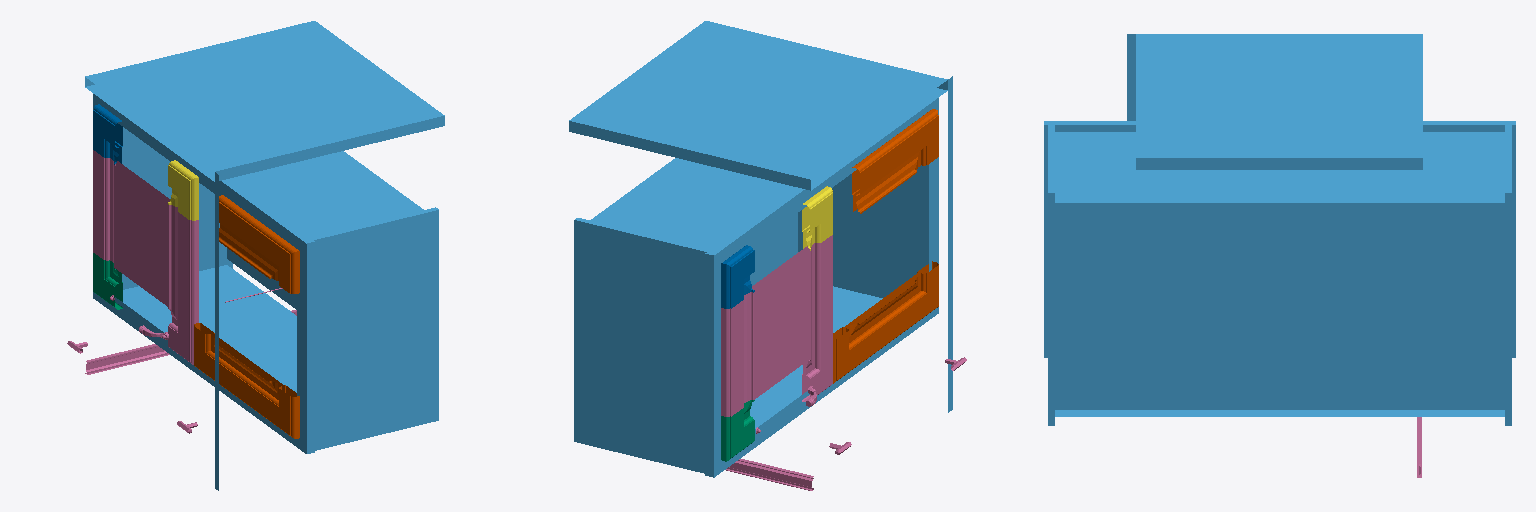
The robot description file, URDF, robot "partnet_c75ebd7c340649ba5ad304c2564ae1df":
<?xml version="1.0" ?>
<robot name="partnet_c75ebd7c340649ba5ad304c2564ae1df">
	
	
	
	
	<link name="base">
		
		
		<inertial>
			
			
			<origin rpy="0 0 0" xyz="0 0 0"/>
			
			
			<mass value="0.0"/>
			
			
			<inertia ixx="0.9" ixy="0.9" ixz="0.9" iyy="0.9" iyz="0.9" izz="0.9"/>
			
		
		</inertial>
		
	
	</link>
	
	
	
	
	<link name="0">
		
		
		
		
		<visual name="door_frame-9">
			
			
			
			
			<origin rpy="0.0 0.0 0.0" xyz="-0.4594064542801477 0.6994047812620767 -0.3716736367086352"/>
			
			
			
			
			<geometry>
				
				
				
				
				<mesh filename="package://textured_objs/original-2.obj"/>
				
				
			
			
			</geometry>
			
			
		
		
		</visual>
		
		
		
		
		<visual name="glass-10">
			
			
			
			
			<origin rpy="0.0 0.0 0.0" xyz="-0.4594064542801477 0.6994047812620767 -0.3716736367086352"/>
			
			
			
			
			<geometry>
				
				
				
				
				<mesh filename="package://textured_objs/original-6.obj"/>
				
				
			
			
			</geometry>
			
			
		
		
		</visual>
		
		
		
		
		<visual name="glass-10">
			
			
			
			
			<origin rpy="0.0 0.0 0.0" xyz="-0.4594064542801477 0.6994047812620767 -0.3716736367086352"/>
			
			
			
			
			<geometry>
				
				
				
				
				<mesh filename="package://textured_objs/original-9.obj"/>
				
				
			
			
			</geometry>
			
			
		
		
		</visual>
		
		
		
		
		<visual name="glass-10">
			
			
			
			
			<origin rpy="0.0 0.0 0.0" xyz="-0.4594064542801477 0.6994047812620767 -0.3716736367086352"/>
			
			
			
			
			<geometry>
				
				
				
				
				<mesh filename="package://textured_objs/original-8.obj"/>
				
				
			
			
			</geometry>
			
			
		
		
		</visual>
		
		
		
		
		<visual name="glass-10">
			
			
			
			
			<origin rpy="0.0 0.0 0.0" xyz="-0.4594064542801477 0.6994047812620767 -0.3716736367086352"/>
			
			
			
			
			<geometry>
				
				
				
				
				<mesh filename="package://textured_objs/original-15.obj"/>
				
				
			
			
			</geometry>
			
			
		
		
		</visual>
		
		
		
		
		<visual name="glass-10">
			
			
			
			
			<origin rpy="0.0 0.0 0.0" xyz="-0.4594064542801477 0.6994047812620767 -0.3716736367086352"/>
			
			
			
			
			<geometry>
				
				
				
				
				<mesh filename="package://textured_objs/original-10.obj"/>
				
				
			
			
			</geometry>
			
			
		
		
		</visual>
		
		
		
		
		<visual name="glass-10">
			
			
			
			
			<origin rpy="0.0 0.0 0.0" xyz="-0.4594064542801477 0.6994047812620767 -0.3716736367086352"/>
			
			
			
			
			<geometry>
				
				
				
				
				<mesh filename="package://textured_objs/original-12.obj"/>
				
				
			
			
			</geometry>
			
			
		
		
		</visual>
		
		
		
		
		<visual name="glass-10">
			
			
			
			
			<origin rpy="0.0 0.0 0.0" xyz="-0.4594064542801477 0.6994047812620767 -0.3716736367086352"/>
			
			
			
			
			<geometry>
				
				
				
				
				<mesh filename="package://textured_objs/original-14.obj"/>
				
				
			
			
			</geometry>
			
			
		
		
		</visual>
		
		
		
		
		<visual name="glass-10">
			
			
			
			
			<origin rpy="0.0 0.0 0.0" xyz="-0.4594064542801477 0.6994047812620767 -0.3716736367086352"/>
			
			
			
			
			<geometry>
				
				
				
				
				<mesh filename="package://textured_objs/original-11.obj"/>
				
				
			
			
			</geometry>
			
			
		
		
		</visual>
		
		
		
		
		<visual name="glass-10">
			
			
			
			
			<origin rpy="0.0 0.0 0.0" xyz="-0.4594064542801477 0.6994047812620767 -0.3716736367086352"/>
			
			
			
			
			<geometry>
				
				
				
				
				<mesh filename="package://textured_objs/original-13.obj"/>
				
				
			
			
			</geometry>
			
			
		
		
		</visual>
		
		
		
		
		<visual name="glass-10">
			
			
			
			
			<origin rpy="0.0 0.0 0.0" xyz="-0.4594064542801477 0.6994047812620767 -0.3716736367086352"/>
			
			
			
			
			<geometry>
				
				
				
				
				<mesh filename="package://textured_objs/original-5.obj"/>
				
				
			
			
			</geometry>
			
			
		
		
		</visual>
		
		
		
		
		<visual name="glass-10">
			
			
			
			
			<origin rpy="0.0 0.0 0.0" xyz="-0.4594064542801477 0.6994047812620767 -0.3716736367086352"/>
			
			
			
			
			<geometry>
				
				
				
				
				<mesh filename="package://textured_objs/original-16.obj"/>
				
				
			
			
			</geometry>
			
			
		
		
		</visual>
		
		
		
		
		<collision>
			
			
			
			
			<origin rpy="0.0 0.0 0.0" xyz="-0.4594064542801477 0.6994047812620767 -0.3716736367086352"/>
			
			
			
			
			<geometry>
				
				
				
				
				<mesh filename="package://textured_objs/original-2.obj"/>
				
				
			
			
			</geometry>
			
			
		
		
		</collision>
		
		
		
		
		<collision>
			
			
			
			
			<origin rpy="0.0 0.0 0.0" xyz="-0.4594064542801477 0.6994047812620767 -0.3716736367086352"/>
			
			
			
			
			<geometry>
				
				
				
				
				<mesh filename="package://textured_objs/original-6.obj"/>
				
				
			
			
			</geometry>
			
			
		
		
		</collision>
		
		
		
		
		<collision>
			
			
			
			
			<origin rpy="0.0 0.0 0.0" xyz="-0.4594064542801477 0.6994047812620767 -0.3716736367086352"/>
			
			
			
			
			<geometry>
				
				
				
				
				<mesh filename="package://textured_objs/original-9.obj"/>
				
				
			
			
			</geometry>
			
			
		
		
		</collision>
		
		
		
		
		<collision>
			
			
			
			
			<origin rpy="0.0 0.0 0.0" xyz="-0.4594064542801477 0.6994047812620767 -0.3716736367086352"/>
			
			
			
			
			<geometry>
				
				
				
				
				<mesh filename="package://textured_objs/original-8.obj"/>
				
				
			
			
			</geometry>
			
			
		
		
		</collision>
		
		
		
		
		<collision>
			
			
			
			
			<origin rpy="0.0 0.0 0.0" xyz="-0.4594064542801477 0.6994047812620767 -0.3716736367086352"/>
			
			
			
			
			<geometry>
				
				
				
				
				<mesh filename="package://textured_objs/original-15.obj"/>
				
				
			
			
			</geometry>
			
			
		
		
		</collision>
		
		
		
		
		<collision>
			
			
			
			
			<origin rpy="0.0 0.0 0.0" xyz="-0.4594064542801477 0.6994047812620767 -0.3716736367086352"/>
			
			
			
			
			<geometry>
				
				
				
				
				<mesh filename="package://textured_objs/original-10.obj"/>
				
				
			
			
			</geometry>
			
			
		
		
		</collision>
		
		
		
		
		<collision>
			
			
			
			
			<origin rpy="0.0 0.0 0.0" xyz="-0.4594064542801477 0.6994047812620767 -0.3716736367086352"/>
			
			
			
			
			<geometry>
				
				
				
				
				<mesh filename="package://textured_objs/original-12.obj"/>
				
				
			
			
			</geometry>
			
			
		
		
		</collision>
		
		
		
		
		<collision>
			
			
			
			
			<origin rpy="0.0 0.0 0.0" xyz="-0.4594064542801477 0.6994047812620767 -0.3716736367086352"/>
			
			
			
			
			<geometry>
				
				
				
				
				<mesh filename="package://textured_objs/original-14.obj"/>
				
				
			
			
			</geometry>
			
			
		
		
		</collision>
		
		
		
		
		<collision>
			
			
			
			
			<origin rpy="0.0 0.0 0.0" xyz="-0.4594064542801477 0.6994047812620767 -0.3716736367086352"/>
			
			
			
			
			<geometry>
				
				
				
				
				<mesh filename="package://textured_objs/original-11.obj"/>
				
				
			
			
			</geometry>
			
			
		
		
		</collision>
		
		
		
		
		<collision>
			
			
			
			
			<origin rpy="0.0 0.0 0.0" xyz="-0.4594064542801477 0.6994047812620767 -0.3716736367086352"/>
			
			
			
			
			<geometry>
				
				
				
				
				<mesh filename="package://textured_objs/original-13.obj"/>
				
				
			
			
			</geometry>
			
			
		
		
		</collision>
		
		
		
		
		<collision>
			
			
			
			
			<origin rpy="0.0 0.0 0.0" xyz="-0.4594064542801477 0.6994047812620767 -0.3716736367086352"/>
			
			
			
			
			<geometry>
				
				
				
				
				<mesh filename="package://textured_objs/original-5.obj"/>
				
				
			
			
			</geometry>
			
			
		
		
		</collision>
		
		
		
		
		<collision>
			
			
			
			
			<origin rpy="0.0 0.0 0.0" xyz="-0.4594064542801477 0.6994047812620767 -0.3716736367086352"/>
			
			
			
			
			<geometry>
				
				
				
				
				<mesh filename="package://textured_objs/original-16.obj"/>
				
				
			
			
			</geometry>
			
			
		
		
		</collision>
		
		
	
		
		<inertial>
			
			
			<origin rpy="0 0 0" xyz="0 0 0"/>
			
			
			<mass value="3.0"/>
			
			
			<inertia ixx="0.9" ixy="0.9" ixz="0.9" iyy="0.9" iyz="0.9" izz="0.9"/>
			
		
		</inertial>
		
	
	</link>
	
	
	
	
	<joint name="joint_0" type="revolute">
		
		
		
		
		<origin rpy="0.0 0.0 0.0" xyz="0.4594065 -0.6994048 0.3716736"/>
		
		
		
		
		<axis xyz="0 -0.0 -1.0"/>
		
		
		
		
		<child link="0"/>
		
		
		
		
		<parent link="5"/>
		
		
		
		
		<limit effort="30" lower="-1.570796" upper="0.0" velocity="1.0"/>
		
		
	
	
	</joint>
	
	
	
	
	<link name="1">
		
		
		
		
		<visual name="door_button-5">
			
			
			
			
			<origin rpy="0.0 0.0 0.0" xyz="0 0 0"/>
			
			
			
			
			<geometry>
				
				
				
				
				<mesh filename="package://textured_objs/original-22.obj"/>
				
				
			
			
			</geometry>
			
			
		
		
		</visual>
		
		
		
		
		<collision>
			
			
			
			
			<origin rpy="0.0 0.0 0.0" xyz="0 0 0"/>
			
			
			
			
			<geometry>
				
				
				
				
				<mesh filename="package://textured_objs/original-22.obj"/>
				
				
			
			
			</geometry>
			
			
		
		
		</collision>
		
		
	
		
		<inertial>
			
			
			<origin rpy="0 0 0" xyz="0 0 0"/>
			
			
			<mass value="3.0"/>
			
			
			<inertia ixx="0.9" ixy="0.9" ixz="0.9" iyy="0.9" iyz="0.9" izz="0.9"/>
			
		
		</inertial>
		
	
	</link>
	
	
	
	
	<joint name="joint_1" type="fixed">
		
		
		
		
		<origin rpy="0.0 0.0 0.0" xyz="0 0 0"/>
		
		
		
		
		<axis xyz="-1 -0.0 0.0"/>
		
		
		
		
		<child link="1"/>
		
		
		
		
		<parent link="5"/>
		
		
		
		
		<limit effort="30" lower="0.0040000000000000036" upper="0.01200000000000001" velocity="1.0"/>
		
		
	
	
	</joint>
	
	
	
	
	<link name="2">
		
		
		
		
		<visual name="control_button-6">
			
			
			
			
			<origin rpy="0.0 0.0 0.0" xyz="0 -0.595905953683902 0.10762880873845218"/>
			
			
			
			
			<geometry>
				
				
				
				
				<mesh filename="package://textured_objs/original-21.obj"/>
				
				
			
			
			</geometry>
			
			
		
		
		</visual>
		
		
		
		
		<collision>
			
			
			
			
			<origin rpy="0.0 0.0 0.0" xyz="0 -0.595905953683902 0.10762880873845218"/>
			
			
			
			
			<geometry>
				
				
				
				
				<mesh filename="package://textured_objs/original-21.obj"/>
				
				
			
			
			</geometry>
			
			
		
		
		</collision>
		
		
	
		
		<inertial>
			
			
			<origin rpy="0 0 0" xyz="0 0 0"/>
			
			
			<mass value="3.0"/>
			
			
			<inertia ixx="0.9" ixy="0.9" ixz="0.9" iyy="0.9" iyz="0.9" izz="0.9"/>
			
		
		</inertial>
		
	
	</link>
	
	
	
	
	<joint name="joint_2" type="fixed">
		
		
		
		
		<origin rpy="0.0 0.0 0.0" xyz="0 0.595905953683902 -0.10762880873845218"/>
		
		
		
		
		<axis xyz="1 -0.0 0.0"/>
		
		
		
		
		<child link="2"/>
		
		
		
		
		<parent link="5"/>
		
		
	
	
	</joint>
	
	
	
	
	<link name="3">
		
		
		
		
		<visual name="control_button-7">
			
			
			
			
			<origin rpy="0.0 0.0 0.0" xyz="0 -0.5959056708108185 -0.10520150832160682"/>
			
			
			
			
			<geometry>
				
				
				
				
				<mesh filename="package://textured_objs/original-20.obj"/>
				
				
			
			
			</geometry>
			
			
		
		
		</visual>
		
		
		
		
		<collision>
			
			
			
			
			<origin rpy="0.0 0.0 0.0" xyz="0 -0.5959056708108185 -0.10520150832160682"/>
			
			
			
			
			<geometry>
				
				
				
				
				<mesh filename="package://textured_objs/original-20.obj"/>
				
				
			
			
			</geometry>
			
			
		
		
		</collision>
		
		
	
		
		<inertial>
			
			
			<origin rpy="0 0 0" xyz="0 0 0"/>
			
			
			<mass value="3.0"/>
			
			
			<inertia ixx="0.9" ixy="0.9" ixz="0.9" iyy="0.9" iyz="0.9" izz="0.9"/>
			
		
		</inertial>
		
	
	</link>
	
	
	
	
	<joint name="joint_3" type="fixed">
		
		
		
		
		<origin rpy="0.0 0.0 0.0" xyz="0 0.5959056708108185 0.10520150832160682"/>
		
		
		
		
		<axis xyz="1 -0.0 0.0"/>
		
		
		
		
		<child link="3"/>
		
		
		
		
		<parent link="5"/>
		
		
	
	
	</joint>
	
	
	
	
	<link name="4">
		
		
		
		
		<visual name="tray-12">
			
			
			
			
			<origin rpy="0.0 0.0 0.0" xyz="0.02379955083131792 0.149241880774498 0"/>
			
			
			
			
			<geometry>
				
				
				
				
				<mesh filename="package://textured_objs/original-44.obj"/>
				
				
			
			
			</geometry>
			
			
		
		
		</visual>
		
		
		
		
		<visual name="tray_support-13">
			
			
			
			
			<origin rpy="0.0 0.0 0.0" xyz="0.02379955083131792 0.149241880774498 0"/>
			
			
			
			
			<geometry>
				
				
				
				
				<mesh filename="package://textured_objs/original-43.obj"/>
				
				
			
			
			</geometry>
			
			
		
		
		</visual>
		
		
		
		
		<visual name="tray_support-13">
			
			
			
			
			<origin rpy="0.0 0.0 0.0" xyz="0.02379955083131792 0.149241880774498 0"/>
			
			
			
			
			<geometry>
				
				
				
				
				<mesh filename="package://textured_objs/original-45.obj"/>
				
				
			
			
			</geometry>
			
			
		
		
		</visual>
		
		
		
		
		<visual name="tray_support-13">
			
			
			
			
			<origin rpy="0.0 0.0 0.0" xyz="0.02379955083131792 0.149241880774498 0"/>
			
			
			
			
			<geometry>
				
				
				
				
				<mesh filename="package://textured_objs/original-41.obj"/>
				
				
			
			
			</geometry>
			
			
		
		
		</visual>
		
		
		
		
		<visual name="tray_support-13">
			
			
			
			
			<origin rpy="0.0 0.0 0.0" xyz="0.02379955083131792 0.149241880774498 0"/>
			
			
			
			
			<geometry>
				
				
				
				
				<mesh filename="package://textured_objs/original-42.obj"/>
				
				
			
			
			</geometry>
			
			
		
		
		</visual>
		
		
		
		
		<collision>
			
			
			
			
			<origin rpy="0.0 0.0 0.0" xyz="0.02379955083131792 0.149241880774498 0"/>
			
			
			
			
			<geometry>
				
				
				
				
				<mesh filename="package://textured_objs/original-44.obj"/>
				
				
			
			
			</geometry>
			
			
		
		
		</collision>
		
		
		
		
		<collision>
			
			
			
			
			<origin rpy="0.0 0.0 0.0" xyz="0.02379955083131792 0.149241880774498 0"/>
			
			
			
			
			<geometry>
				
				
				
				
				<mesh filename="package://textured_objs/original-43.obj"/>
				
				
			
			
			</geometry>
			
			
		
		
		</collision>
		
		
		
		
		<collision>
			
			
			
			
			<origin rpy="0.0 0.0 0.0" xyz="0.02379955083131792 0.149241880774498 0"/>
			
			
			
			
			<geometry>
				
				
				
				
				<mesh filename="package://textured_objs/original-45.obj"/>
				
				
			
			
			</geometry>
			
			
		
		
		</collision>
		
		
		
		
		<collision>
			
			
			
			
			<origin rpy="0.0 0.0 0.0" xyz="0.02379955083131792 0.149241880774498 0"/>
			
			
			
			
			<geometry>
				
				
				
				
				<mesh filename="package://textured_objs/original-41.obj"/>
				
				
			
			
			</geometry>
			
			
		
		
		</collision>
		
		
		
		
		<collision>
			
			
			
			
			<origin rpy="0.0 0.0 0.0" xyz="0.02379955083131792 0.149241880774498 0"/>
			
			
			
			
			<geometry>
				
				
				
				
				<mesh filename="package://textured_objs/original-42.obj"/>
				
				
			
			
			</geometry>
			
			
		
		
		</collision>
		
		
	
		
		<inertial>
			
			
			<origin rpy="0 0 0" xyz="0 0 0"/>
			
			
			<mass value="3.0"/>
			
			
			<inertia ixx="0.9" ixy="0.9" ixz="0.9" iyy="0.9" iyz="0.9" izz="0.9"/>
			
		
		</inertial>
		
	
	</link>
	
	
	
	
	<joint name="joint_4" type="fixed">
		
		
		
		
		<origin rpy="0.0 0.0 0.0" xyz="-0.02379955083131792 -0.149241880774498 0"/>
		
		
		
		
		<axis xyz="0 -0.0 1.0"/>
		
		
		
		
		<child link="4"/>
		
		
		
		
		<parent link="5"/>
		
		
	
	
	</joint>
	
	
	
	
	<link name="5">
		
		
		
		
		<visual name="frame-2">
			
			
			
			
			<origin rpy="0.0 0.0 0.0" xyz="0 0 0"/>
			
			
			
			
			<geometry>
				
				
				
				
				<mesh filename="package://textured_objs/original-36.obj"/>
				
				
			
			
			</geometry>
			
			
		
		
		</visual>
		
		
		
		
		<visual name="display_panel-8">
			
			
			
			
			<origin rpy="0.0 0.0 0.0" xyz="0 0 0"/>
			
			
			
			
			<geometry>
				
				
				
				
				<mesh filename="package://textured_objs/original-26.obj"/>
				
				
			
			
			</geometry>
			
			
		
		
		</visual>
		
		
		
		
		<visual name="display_panel-8">
			
			
			
			
			<origin rpy="0.0 0.0 0.0" xyz="0 0 0"/>
			
			
			
			
			<geometry>
				
				
				
				
				<mesh filename="package://textured_objs/original-27.obj"/>
				
				
			
			
			</geometry>
			
			
		
		
		</visual>
		
		
		
		
		<visual name="display_panel-8">
			
			
			
			
			<origin rpy="0.0 0.0 0.0" xyz="0 0 0"/>
			
			
			
			
			<geometry>
				
				
				
				
				<mesh filename="package://textured_objs/original-28.obj"/>
				
				
			
			
			</geometry>
			
			
		
		
		</visual>
		
		
		
		
		<visual name="display_panel-8">
			
			
			
			
			<origin rpy="0.0 0.0 0.0" xyz="0 0 0"/>
			
			
			
			
			<geometry>
				
				
				
				
				<mesh filename="package://textured_objs/original-29.obj"/>
				
				
			
			
			</geometry>
			
			
		
		
		</visual>
		
		
		
		
		<visual name="display_panel-8">
			
			
			
			
			<origin rpy="0.0 0.0 0.0" xyz="0 0 0"/>
			
			
			
			
			<geometry>
				
				
				
				
				<mesh filename="package://textured_objs/original-30.obj"/>
				
				
			
			
			</geometry>
			
			
		
		
		</visual>
		
		
		
		
		<visual name="display_panel-8">
			
			
			
			
			<origin rpy="0.0 0.0 0.0" xyz="0 0 0"/>
			
			
			
			
			<geometry>
				
				
				
				
				<mesh filename="package://textured_objs/original-31.obj"/>
				
				
			
			
			</geometry>
			
			
		
		
		</visual>
		
		
		
		
		<visual name="display_panel-8">
			
			
			
			
			<origin rpy="0.0 0.0 0.0" xyz="0 0 0"/>
			
			
			
			
			<geometry>
				
				
				
				
				<mesh filename="package://textured_objs/original-34.obj"/>
				
				
			
			
			</geometry>
			
			
		
		
		</visual>
		
		
		
		
		<visual name="display_panel-8">
			
			
			
			
			<origin rpy="0.0 0.0 0.0" xyz="0 0 0"/>
			
			
			
			
			<geometry>
				
				
				
				
				<mesh filename="package://textured_objs/original-33.obj"/>
				
				
			
			
			</geometry>
			
			
		
		
		</visual>
		
		
		
		
		<visual name="display_panel-8">
			
			
			
			
			<origin rpy="0.0 0.0 0.0" xyz="0 0 0"/>
			
			
			
			
			<geometry>
				
				
				
				
				<mesh filename="package://textured_objs/original-32.obj"/>
				
				
			
			
			</geometry>
			
			
		
		
		</visual>
		
		
		
		
		<visual name="display_panel-8">
			
			
			
			
			<origin rpy="0.0 0.0 0.0" xyz="0 0 0"/>
			
			
			
			
			<geometry>
				
				
				
				
				<mesh filename="package://textured_objs/original-35.obj"/>
				
				
			
			
			</geometry>
			
			
		
		
		</visual>
		
		
		
		
		<visual name="display_panel-8">
			
			
			
			
			<origin rpy="0.0 0.0 0.0" xyz="0 0 0"/>
			
			
			
			
			<geometry>
				
				
				
				
				<mesh filename="package://textured_objs/original-23.obj"/>
				
				
			
			
			</geometry>
			
			
		
		
		</visual>
		
		
		
		
		<collision>
			
			
			
			
			<origin rpy="0.0 0.0 0.0" xyz="0 0 0"/>
			
			
			
			
			<geometry>
				
				
				
				
				<mesh filename="package://textured_objs/original-36.obj"/>
				
				
			
			
			</geometry>
			
			
		
		
		</collision>
		
		
		
		
		<collision>
			
			
			
			
			<origin rpy="0.0 0.0 0.0" xyz="0 0 0"/>
			
			
			
			
			<geometry>
				
				
				
				
				<mesh filename="package://textured_objs/original-26.obj"/>
				
				
			
			
			</geometry>
			
			
		
		
		</collision>
		
		
		
		
		<collision>
			
			
			
			
			<origin rpy="0.0 0.0 0.0" xyz="0 0 0"/>
			
			
			
			
			<geometry>
				
				
				
				
				<mesh filename="package://textured_objs/original-27.obj"/>
				
				
			
			
			</geometry>
			
			
		
		
		</collision>
		
		
		
		
		<collision>
			
			
			
			
			<origin rpy="0.0 0.0 0.0" xyz="0 0 0"/>
			
			
			
			
			<geometry>
				
				
				
				
				<mesh filename="package://textured_objs/original-28.obj"/>
				
				
			
			
			</geometry>
			
			
		
		
		</collision>
		
		
		
		
		<collision>
			
			
			
			
			<origin rpy="0.0 0.0 0.0" xyz="0 0 0"/>
			
			
			
			
			<geometry>
				
				
				
				
				<mesh filename="package://textured_objs/original-29.obj"/>
				
				
			
			
			</geometry>
			
			
		
		
		</collision>
		
		
		
		
		<collision>
			
			
			
			
			<origin rpy="0.0 0.0 0.0" xyz="0 0 0"/>
			
			
			
			
			<geometry>
				
				
				
				
				<mesh filename="package://textured_objs/original-30.obj"/>
				
				
			
			
			</geometry>
			
			
		
		
		</collision>
		
		
		
		
		<collision>
			
			
			
			
			<origin rpy="0.0 0.0 0.0" xyz="0 0 0"/>
			
			
			
			
			<geometry>
				
				
				
				
				<mesh filename="package://textured_objs/original-31.obj"/>
				
				
			
			
			</geometry>
			
			
		
		
		</collision>
		
		
		
		
		<collision>
			
			
			
			
			<origin rpy="0.0 0.0 0.0" xyz="0 0 0"/>
			
			
			
			
			<geometry>
				
				
				
				
				<mesh filename="package://textured_objs/original-34.obj"/>
				
				
			
			
			</geometry>
			
			
		
		
		</collision>
		
		
		
		
		<collision>
			
			
			
			
			<origin rpy="0.0 0.0 0.0" xyz="0 0 0"/>
			
			
			
			
			<geometry>
				
				
				
				
				<mesh filename="package://textured_objs/original-33.obj"/>
				
				
			
			
			</geometry>
			
			
		
		
		</collision>
		
		
		
		
		<collision>
			
			
			
			
			<origin rpy="0.0 0.0 0.0" xyz="0 0 0"/>
			
			
			
			
			<geometry>
				
				
				
				
				<mesh filename="package://textured_objs/original-32.obj"/>
				
				
			
			
			</geometry>
			
			
		
		
		</collision>
		
		
		
		
		<collision>
			
			
			
			
			<origin rpy="0.0 0.0 0.0" xyz="0 0 0"/>
			
			
			
			
			<geometry>
				
				
				
				
				<mesh filename="package://textured_objs/original-35.obj"/>
				
				
			
			
			</geometry>
			
			
		
		
		</collision>
		
		
		
		
		<collision>
			
			
			
			
			<origin rpy="0.0 0.0 0.0" xyz="0 0 0"/>
			
			
			
			
			<geometry>
				
				
				
				
				<mesh filename="package://textured_objs/original-23.obj"/>
				
				
			
			
			</geometry>
			
			
		
		
		</collision>
		
		
	
		
		<inertial>
			
			
			<origin rpy="0 0 0" xyz="0 0 0"/>
			
			
			<mass value="3.0"/>
			
			
			<inertia ixx="0.9" ixy="0.9" ixz="0.9" iyy="0.9" iyz="0.9" izz="0.9"/>
			
		
		</inertial>
		
	
	</link>
	
	
	
	
	<joint name="joint_5" type="fixed">
		
		
		
		
		<origin rpy="1.570796326794897 0 -1.570796326794897" xyz="0 0 0"/>
		
		
		
		
		<child link="5"/>
		
		
		
		
		<parent link="base"/>
		
		
	
	
	</joint>
	
	


</robot>

--- Facts derived from the render (not from the file) ---
Views: 3 orthographic renders of the robot side by side, from view 1: azimuth 30°, elevation 25°; view 2: azimuth 150°, elevation 25°; view 3: azimuth 270°, elevation 25°.
Robot: partnet_c75ebd7c340649ba5ad304c2564ae1df — 7 links, 6 joints (1 revolute, 5 fixed); root link base; default pose: all joints at 0.
Links seen in each view (by area): view 1: 0, 5, 4, 2, 3, 1; view 2: 0, 5, 4, 3, 2, 1; view 3: 0.
Boxes of the visible links, x1,y1,x2,y2 form: 0: (85,21,444,490); 5: (67,150,296,433); 4: (194,195,299,438); 2: (168,160,198,220); 3: (93,104,122,164); 1: (93,253,122,309); 0: (569,21,952,477); 5: (721,235,966,490); 4: (833,109,938,383); 3: (721,245,754,308); 2: (802,186,832,250); 1: (721,400,754,461); 0: (1044,34,1515,425).
Size in the robot's own frame: 1.16 by 1.7 by 1.39 metres.
Meshes: 32 distinct files referenced, 32 mesh visuals loaded (32 OBJ).
